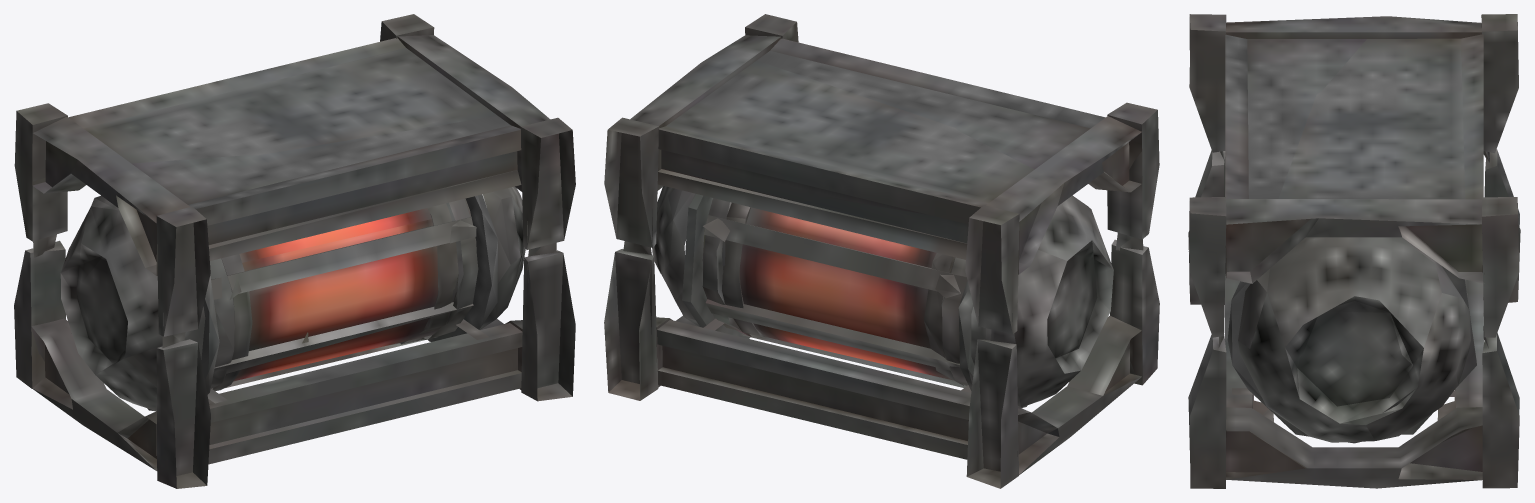
Rendered from res.fuel_dense.glb.
3 renders of one model, left to right at view 1: azimuth 30°, elevation 25°; view 2: azimuth 150°, elevation 25°; view 3: azimuth 270°, elevation 25°, orthographic. The views are drawn at different scales.
Visible parts, largest first — view 1: body; view 2: body; view 3: body.
Part boxes in pixels (x1,y1,x2,y2): body: [14, 14, 575, 488]; body: [604, 14, 1159, 488]; body: [1188, 14, 1520, 488].
Bounding box in the file's own units: 0.4 × 0.2544 × 0.2783.
Materials: 1 (1 with a texture image).
